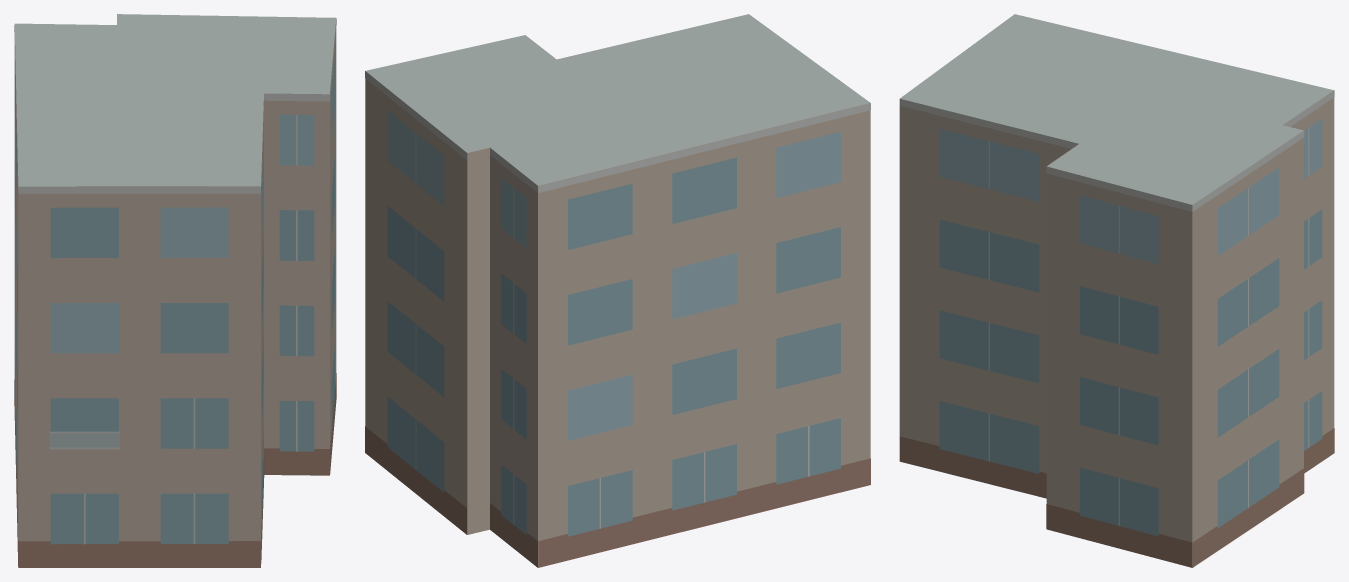
The model's file is survey-upis-32586989.glb.
3 renders of one model, left to right at view 1: azimuth 30°, elevation 25°; view 2: azimuth 150°, elevation 25°; view 3: azimuth 270°, elevation 25°, orthographic. The views are drawn at different scales.
Visible parts, largest first — view 1: survey-upis-32586989.tmp; view 2: survey-upis-32586989.tmp; view 3: survey-upis-32586989.tmp.
Boxes of the visible parts, left/top/right/bottom form: survey-upis-32586989.tmp: left=14, top=14, right=336, bottom=567; survey-upis-32586989.tmp: left=365, top=14, right=870, bottom=567; survey-upis-32586989.tmp: left=899, top=14, right=1334, bottom=567.
Bounding box in the file's own units: 14.39 × 12.74 × 13.84.
